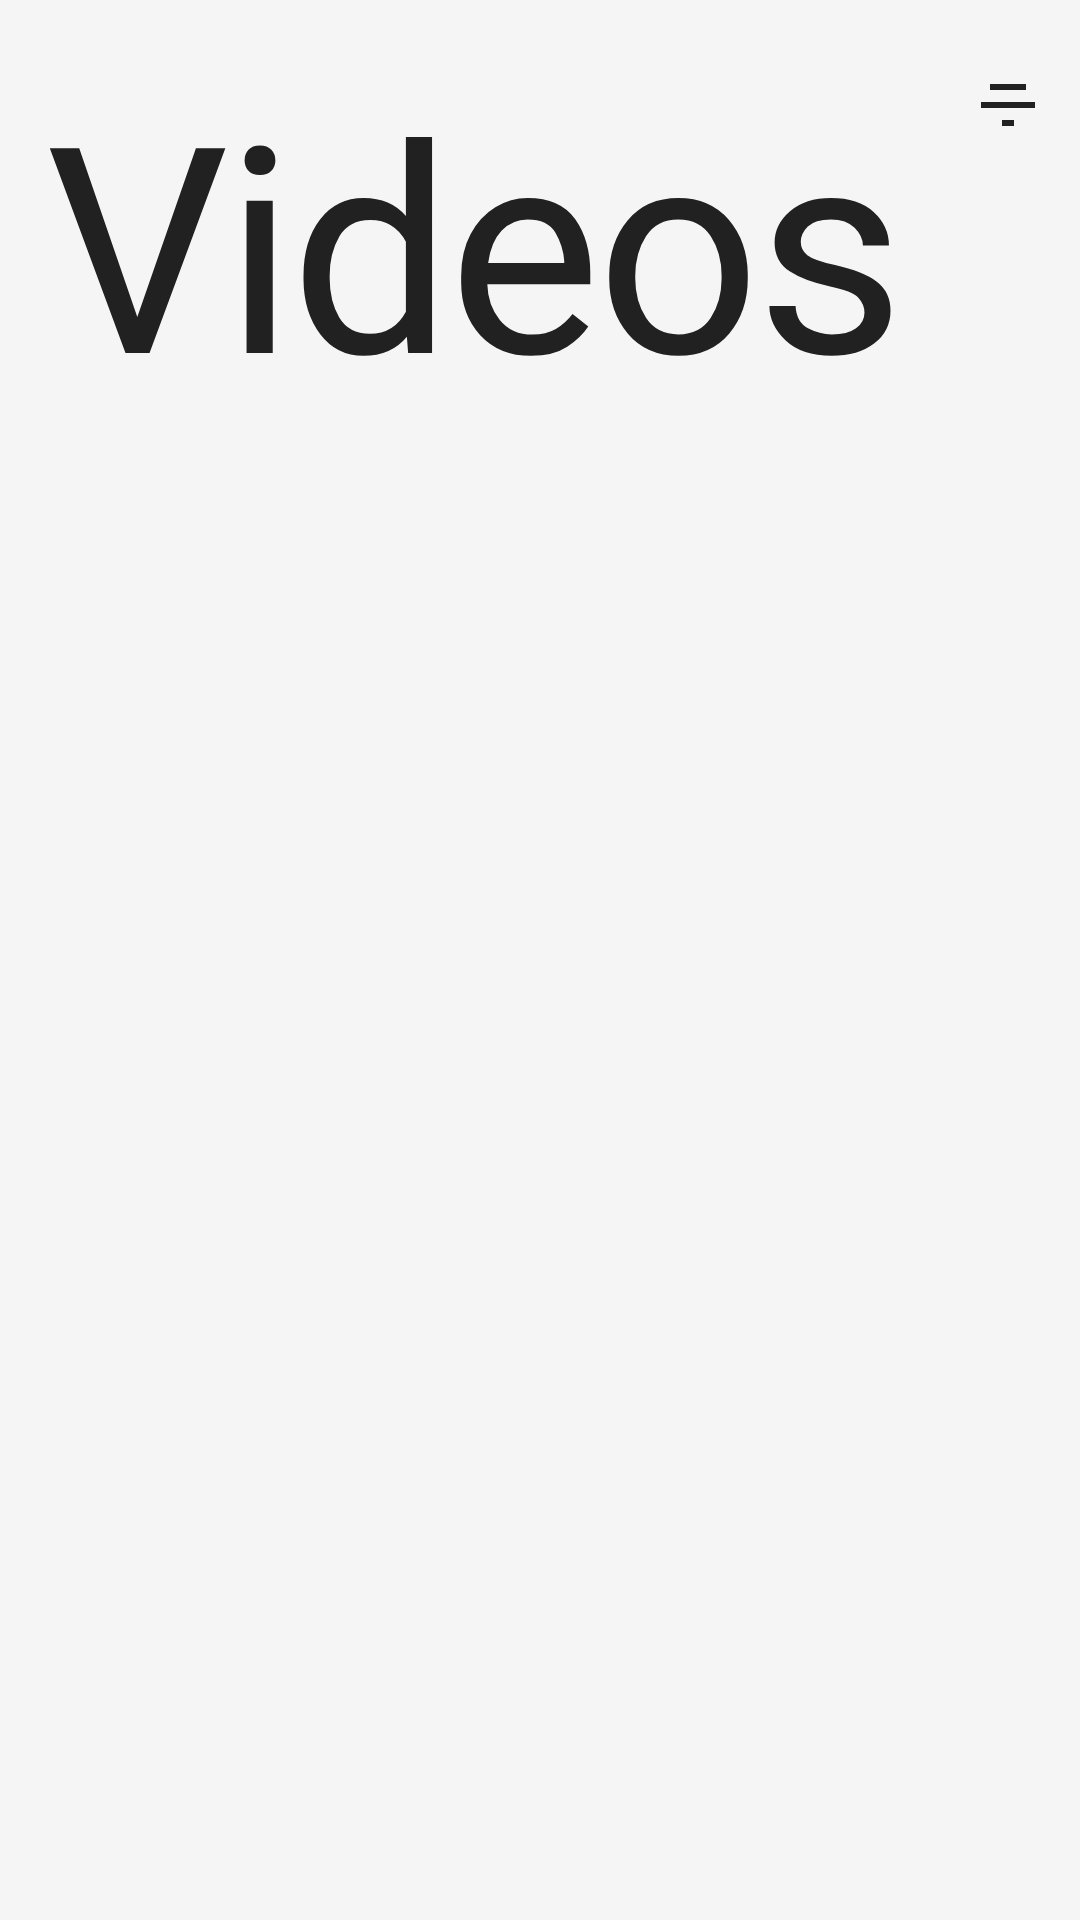

Named icons in this screenshot (1080x1920) and their centers, (x=x, y=y):
Sort: (x=1008, y=105)
